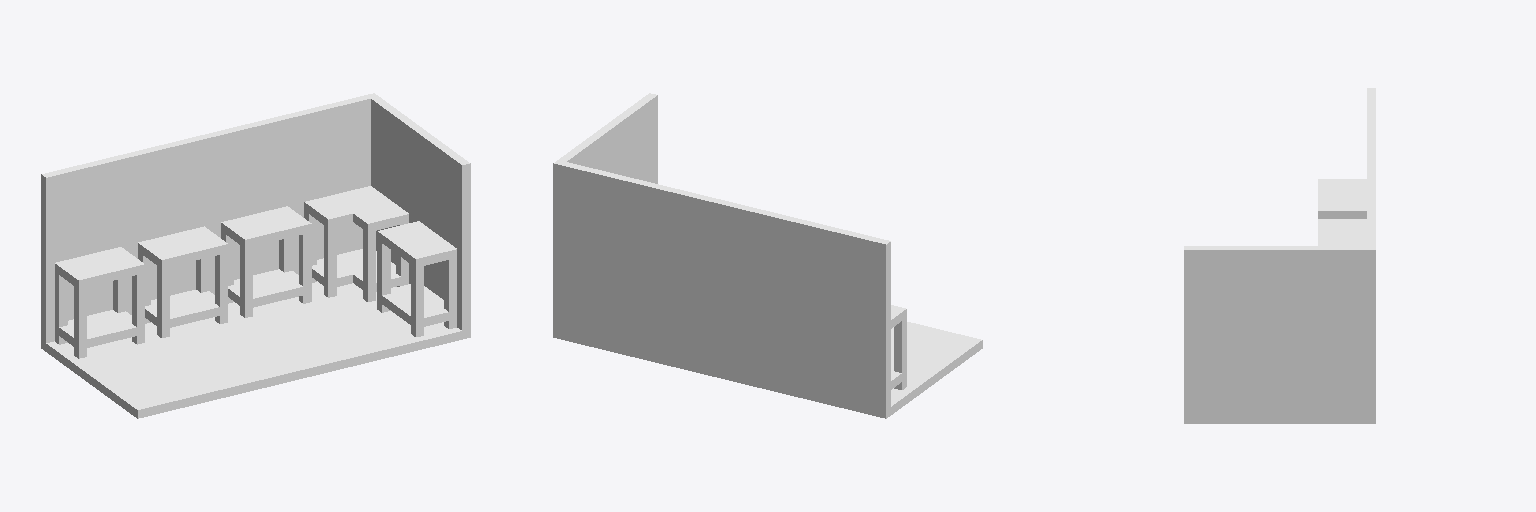
The model's file is level_three-15.obj.
The picture shows the model from 3 angles: view 1: azimuth 30°, elevation 25°; view 2: azimuth 150°, elevation 25°; view 3: azimuth 270°, elevation 25°; orthographic projection.
Visible parts, largest first — view 1: level_three-15; view 2: level_three-15; view 3: level_three-15.
Part boxes in pixels (x1,y1,x2,y2): level_three-15: (41,93,470,418); level_three-15: (553,93,982,418); level_three-15: (1184,88,1375,423).
Size of the model in its own units: 40 by 20 by 20.